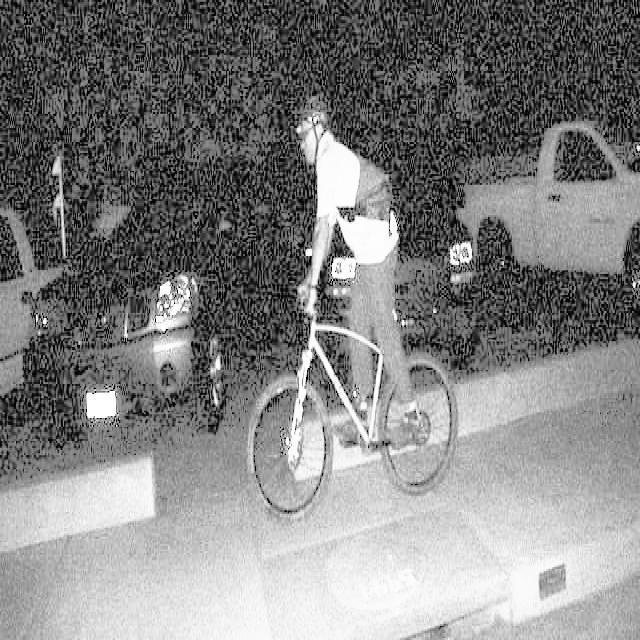Bicycle: (242, 312, 455, 526)
Car: (31, 165, 263, 421), (455, 114, 640, 294), (1, 187, 74, 391)
Person: (287, 87, 424, 450)
